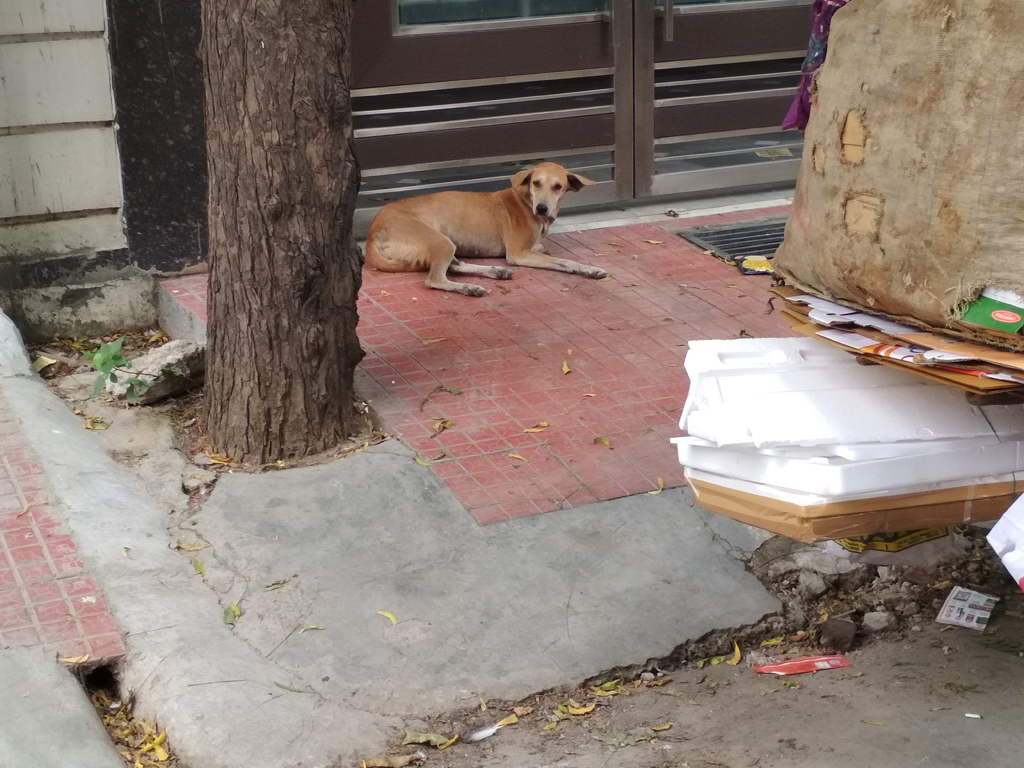dog: (364, 163, 608, 296)
